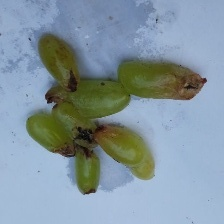grapes: (39, 59, 174, 199)
